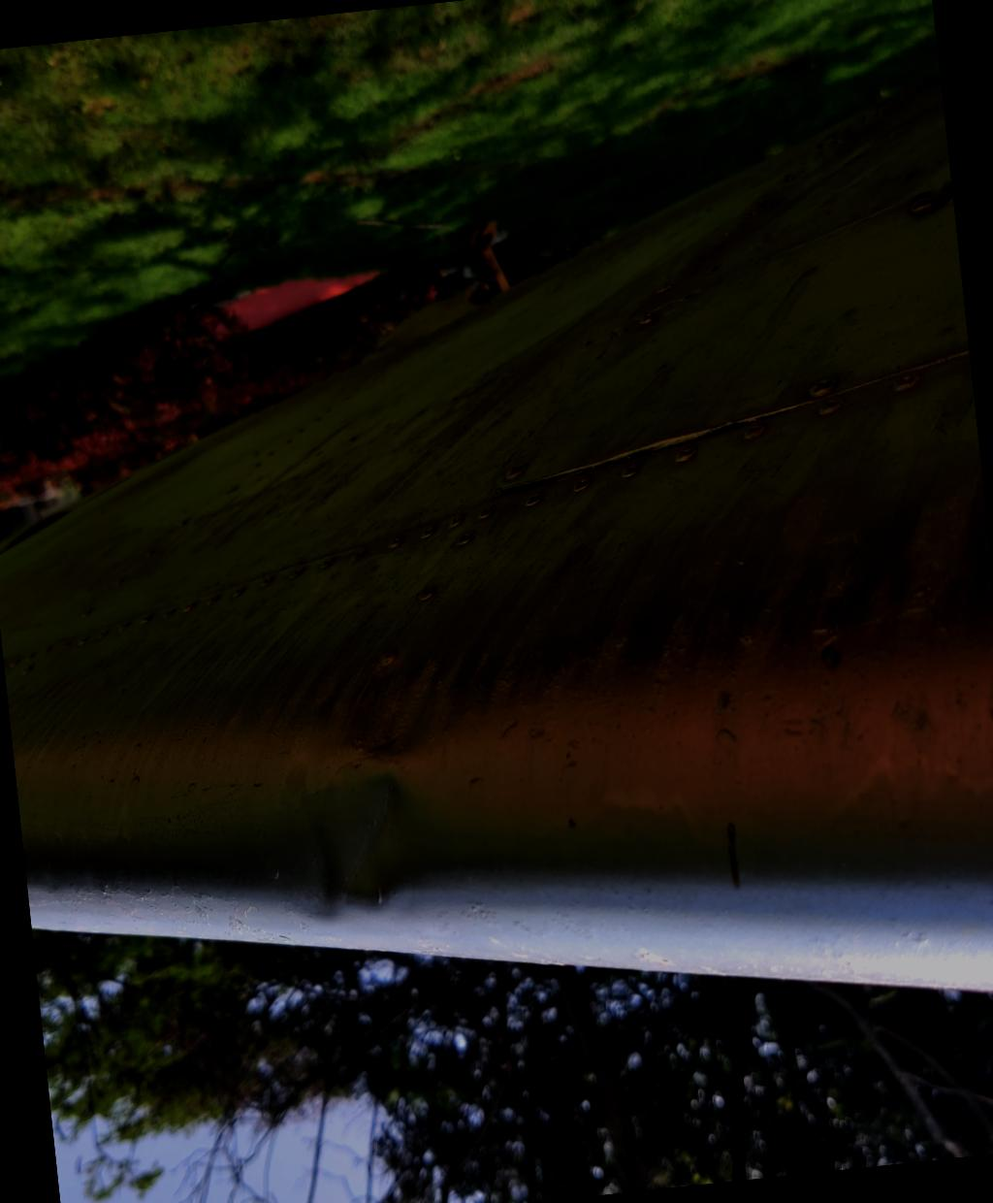dent: (259, 734, 475, 956)
